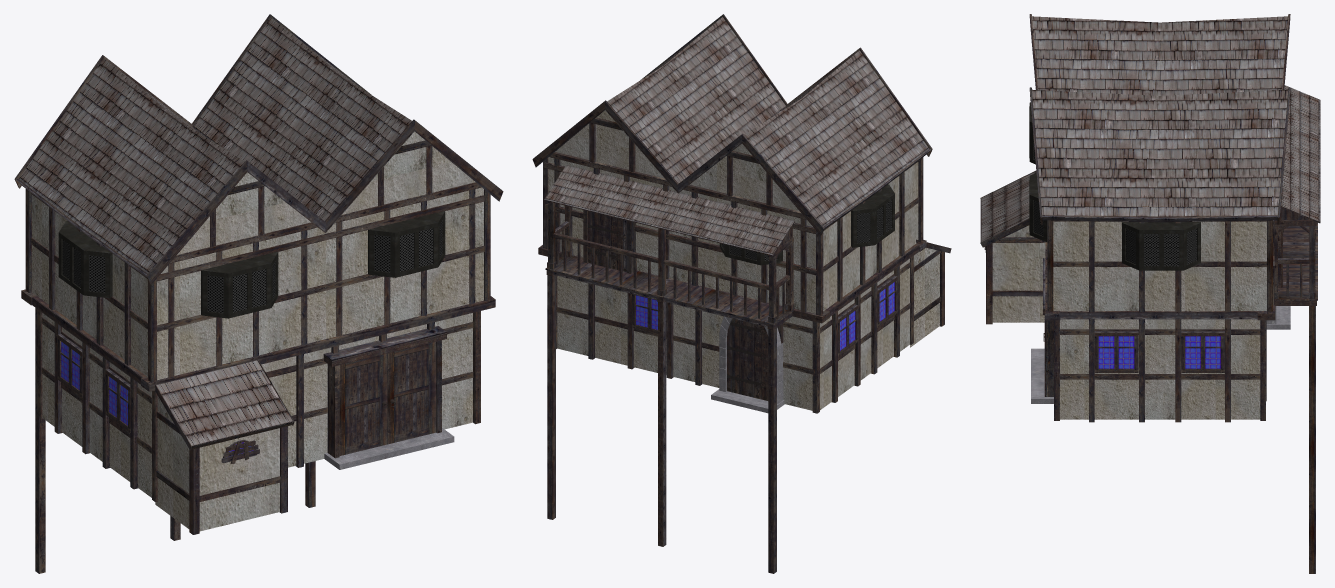
Rendered from house10.dae.
3 renders of one model, left to right at view 1: azimuth 30°, elevation 25°; view 2: azimuth 150°, elevation 25°; view 3: azimuth 270°, elevation 25°, orthographic. The views are drawn at different scales.
Parts seen in each view (by area): view 1: House1_Roof, House1_Level2, House1_Level2_Beams, House1_Level1, BuildingExtensions4, House1_Level1_Beams, BuildingExtensions4Roof, House1_Roof_Frame, House1_Level1_SeperatorBeams, Door4Right, Door4Left, Door4Frame (+12 smaller); view 2: House1_Roof, House1_Level2, House1_Level1, House1_Level2_Beams, Balcony1Roof, House1_Level1_Beams, Balcony1, Balcony1Stilts, House1_Roof_Frame, Balcony1Handles, Door3, BuildingExtensions4 (+12 smaller); view 3: House1_Roof, House1_Level2, House1_Level1, House1_Level1_Beams, Balcony1Roof, BuildingExtensions4, House1_Level2_Beams, Balcony1, House1_Roof_Frame, House1_Level1_SeperatorBeams, BuildingExtensions4Roof, WindowsOutwards1Frame_001 (+11 smaller).
Boxes of the visible parts, bbox=[...] form: House1_Roof: bbox=[19, 17, 411, 273]; House1_Level2: bbox=[32, 131, 483, 380]; House1_Level2_Beams: bbox=[25, 140, 490, 382]; House1_Level1: bbox=[42, 313, 472, 497]; BuildingExtensions4: bbox=[155, 396, 279, 531]; House1_Level1_Beams: bbox=[37, 309, 480, 502]; BuildingExtensions4Roof: bbox=[156, 360, 292, 445]; House1_Roof_Frame: bbox=[14, 14, 503, 284]; House1_Level1_SeperatorBeams: bbox=[21, 289, 495, 391]; Door4Right: bbox=[387, 342, 436, 444]; Door4Left: bbox=[339, 353, 387, 455]; Door4Frame: bbox=[323, 326, 446, 458]; House1_Roof: bbox=[607, 17, 928, 226]; House1_Level2: bbox=[548, 110, 918, 313]; House1_Level1: bbox=[557, 258, 909, 410]; House1_Level2_Beams: bbox=[543, 117, 923, 315]; Balcony1Roof: bbox=[544, 165, 794, 255]; House1_Level1_Beams: bbox=[555, 256, 913, 413]; Balcony1: bbox=[544, 199, 794, 325]; Balcony1Stilts: bbox=[547, 275, 776, 573]; House1_Roof_Frame: bbox=[532, 14, 932, 235]; Balcony1Handles: bbox=[553, 221, 789, 318]; Door3: bbox=[727, 318, 768, 400]; BuildingExtensions4: bbox=[910, 247, 939, 347]; House1_Roof: bbox=[1032, 16, 1288, 216]; House1_Level2: bbox=[1053, 221, 1266, 310]; House1_Level1: bbox=[1060, 319, 1260, 419]; House1_Level1_Beams: bbox=[1054, 319, 1266, 422]; Balcony1Roof: bbox=[1281, 85, 1320, 222]; BuildingExtensions4: bbox=[992, 225, 1045, 322]; House1_Level2_Beams: bbox=[1047, 201, 1274, 311]; Balcony1: bbox=[1274, 206, 1320, 300]; House1_Roof_Frame: bbox=[1029, 14, 1290, 224]; House1_Level1_SeperatorBeams: bbox=[1045, 242, 1275, 320]; BuildingExtensions4Roof: bbox=[981, 171, 1036, 241]; WindowsOutwards1Frame_001: bbox=[1122, 222, 1200, 270].
Size of the model in its own units: 8.67 by 7.63 by 11.43.
24 materials, 24 textured.
